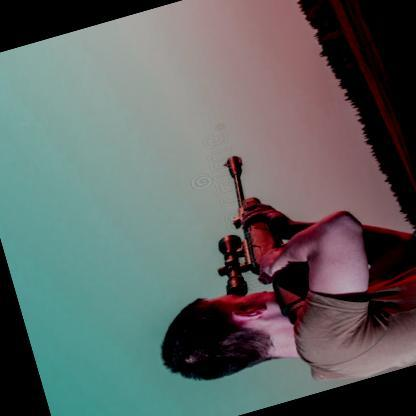rifle: (184, 145, 316, 341)
